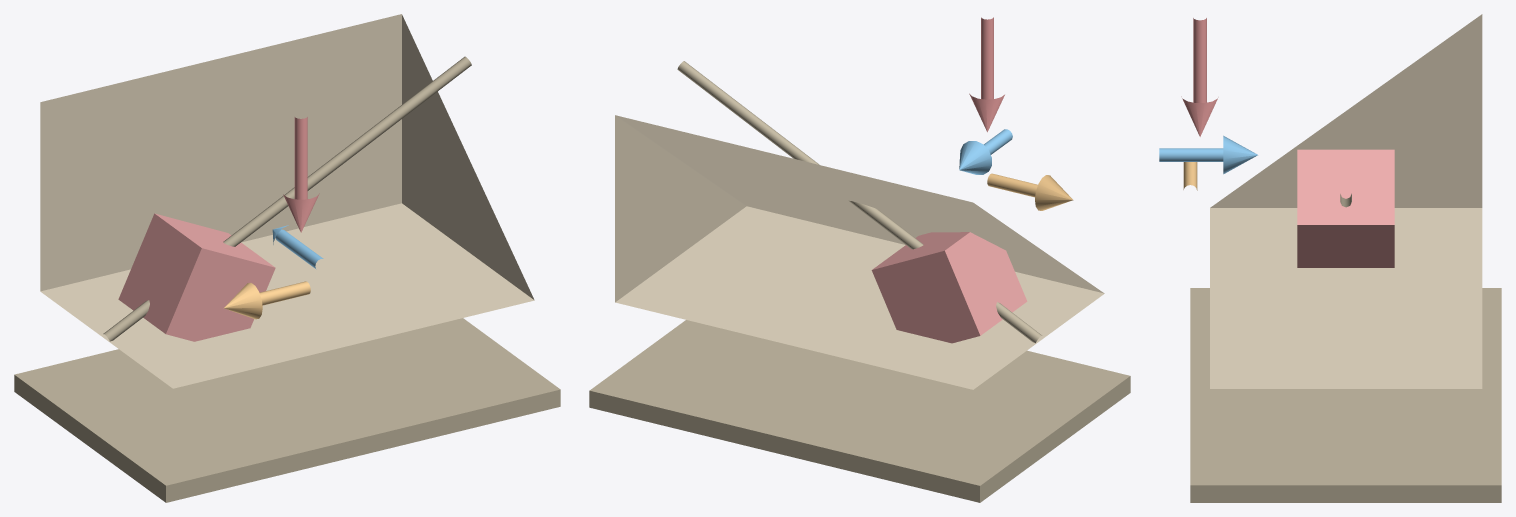
File: inclined-plane.glb
3 renders of one model, left to right at view 1: azimuth 30°, elevation 25°; view 2: azimuth 150°, elevation 25°; view 3: azimuth 270°, elevation 25°, orthographic. The views are drawn at different scales.
Parts seen in each view (by area): view 1: inclined_plane, plane_base, block, plane_surface, gravity_force, friction_force, normal_force; view 2: inclined_plane, plane_base, block, plane_surface, gravity_force, friction_force, normal_force; view 3: inclined_plane, plane_base, block, gravity_force, normal_force.
Part boxes in pixels (x1,y1,x2,y2): inclined_plane: (40,14,534,388); plane_base: (14,318,560,502); block: (118,213,275,341); plane_surface: (103,56,471,341); gravity_force: (283,117,319,232); friction_force: (224,281,310,319); normal_force: (272,225,323,269); inclined_plane: (615,115,1104,389); plane_base: (589,320,1130,502); block: (871,232,1027,343); plane_surface: (677,61,1042,343); gravity_force: (969,17,1004,132); friction_force: (987,173,1073,210); normal_force: (959,129,1012,174); inclined_plane: (1210,14,1482,388); plane_base: (1190,288,1501,502); block: (1297,149,1394,267); gravity_force: (1181,18,1218,136); normal_force: (1159,135,1257,174).
Bounding box in the file's own units: 1.33 × 1.13 × 0.9771.
